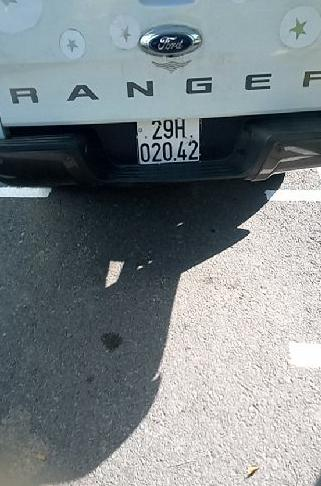Plate-iWeP: (133, 113, 206, 171)
